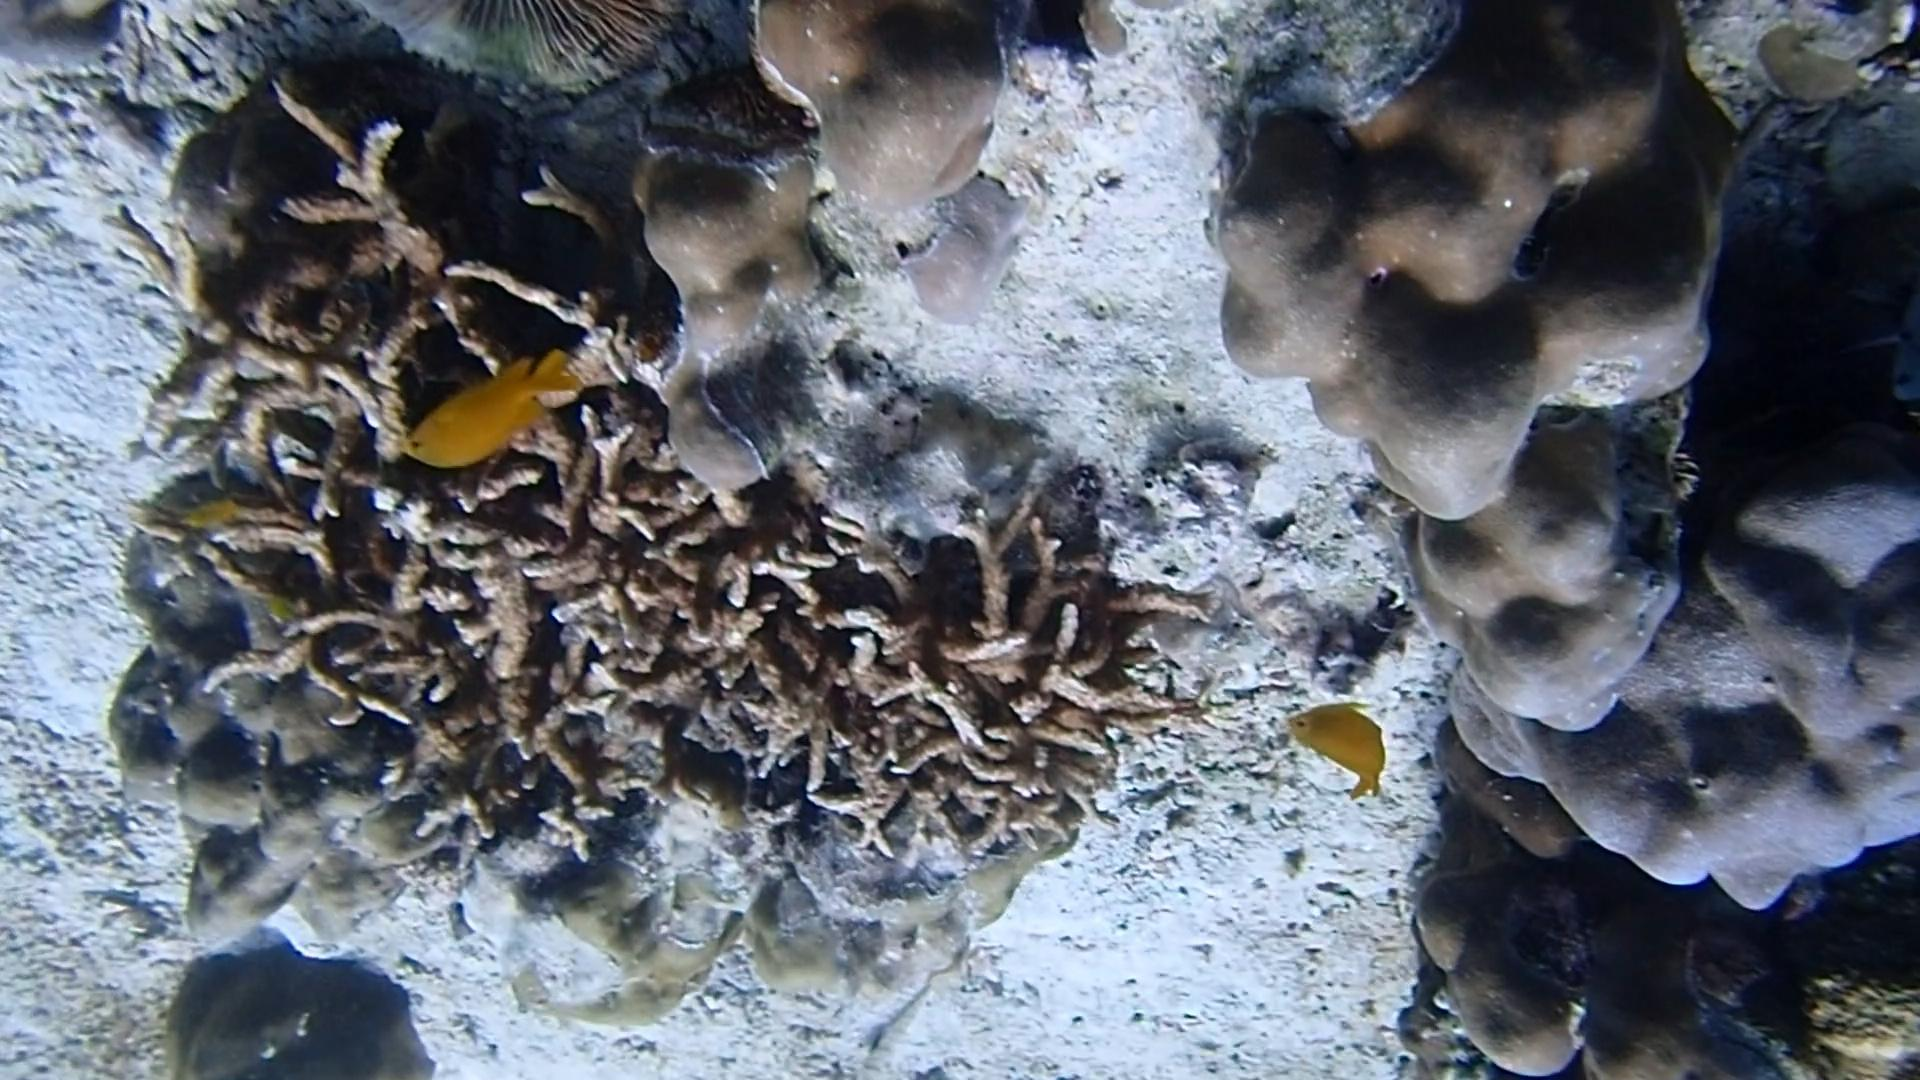Yellow Fish: (402, 343, 588, 476), (1278, 692, 1399, 798), (182, 493, 241, 533)
